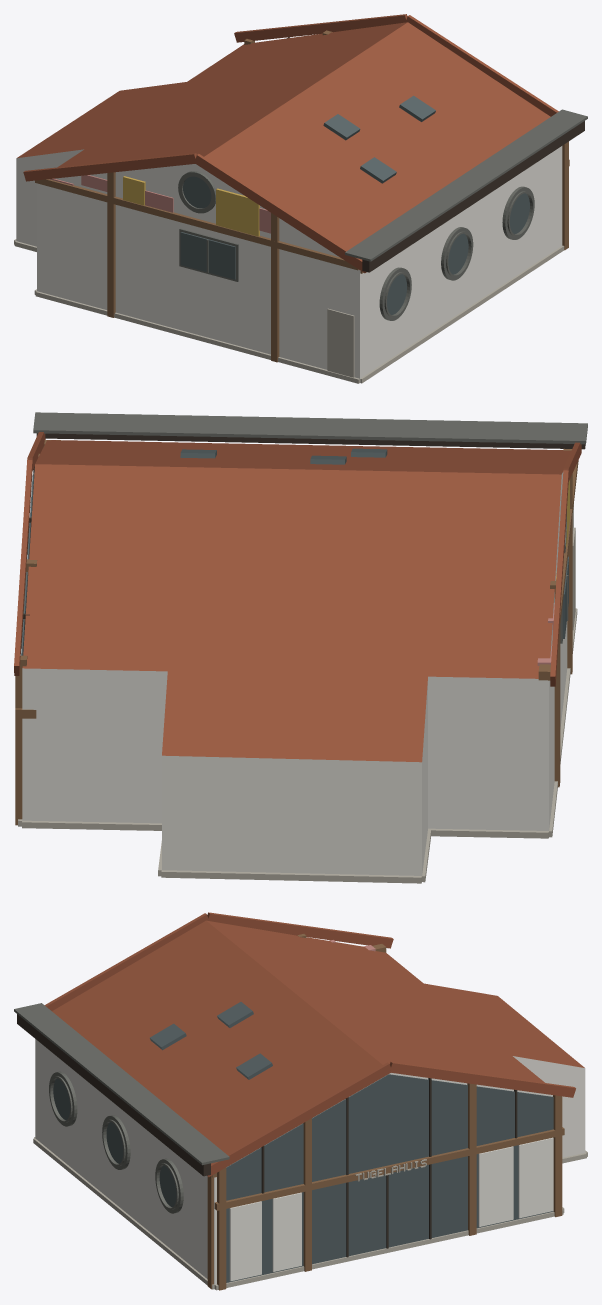
Rendered from tugelahuis-tugelaweg.glb.
3 views of the same model, one above another, from view 1: azimuth 30°, elevation 25°; view 2: azimuth 150°, elevation 25°; view 3: azimuth 270°, elevation 25° (orthographic). The views are drawn at different scales.
Parts seen in each view (by area): view 1: tugelahuis-tugelaweg; view 2: tugelahuis-tugelaweg; view 3: tugelahuis-tugelaweg.
Boxes of the visible parts, left/top/right/bottom form: tugelahuis-tugelaweg: left=14, top=14, right=587, bottom=383; tugelahuis-tugelaweg: left=14, top=412, right=587, bottom=883; tugelahuis-tugelaweg: left=14, top=912, right=587, bottom=1290.
Bounding box in the file's own units: 17.23 × 6.51 × 17.84.
